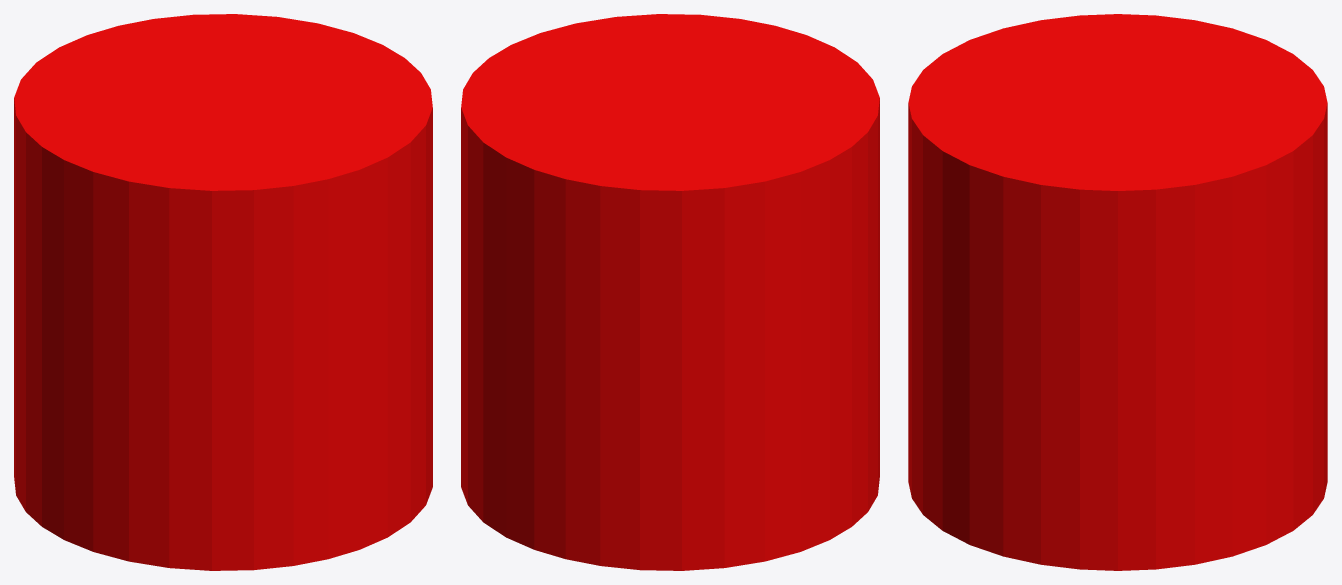
File: asset.glb
3 views of the same model, side by side, from view 1: azimuth 30°, elevation 25°; view 2: azimuth 150°, elevation 25°; view 3: azimuth 270°, elevation 25° (orthographic).
Visible parts, largest first — view 1: Layer 01; view 2: Layer 01; view 3: Layer 01.
Part boxes in pixels (left/top/right/bottom): Layer 01: left=14, top=14, right=432, bottom=570; Layer 01: left=461, top=14, right=879, bottom=570; Layer 01: left=908, top=14, right=1327, bottom=570.
Bounding box in the file's own units: 0.3 × 0.3 × 0.3.
